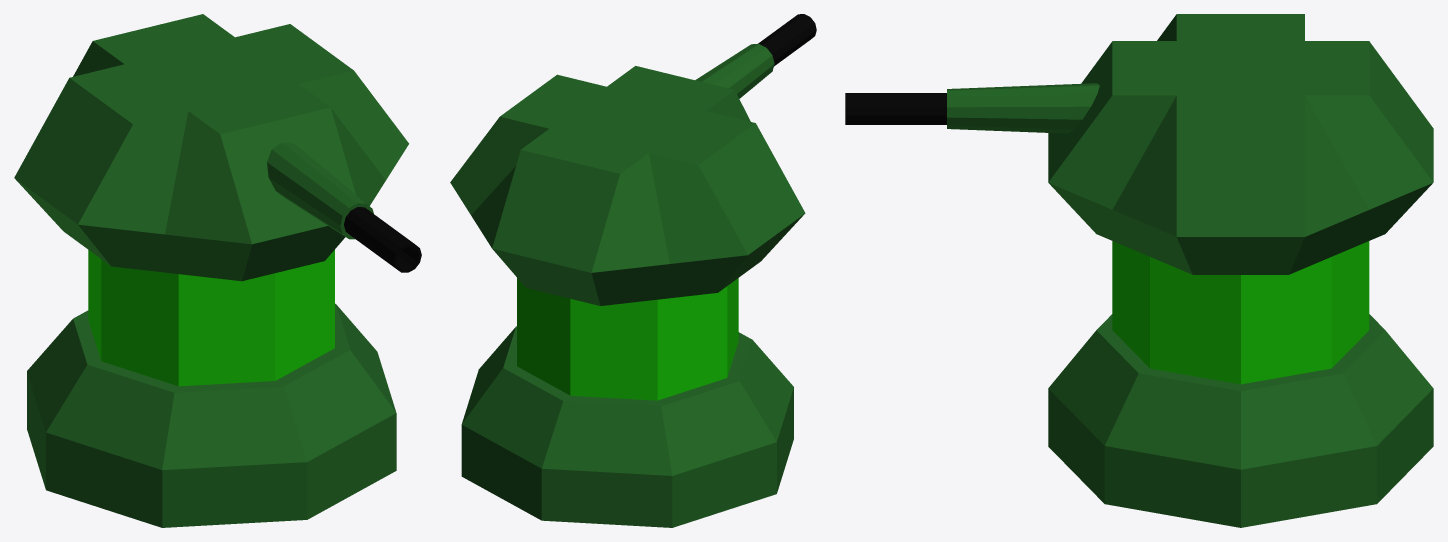
Rendered from Turret0_3.glb.
The picture shows the model from 3 angles, left to right: view 1: azimuth 30°, elevation 25°; view 2: azimuth 150°, elevation 25°; view 3: azimuth 270°, elevation 25°; orthographic projection. The views are drawn at different scales.
Parts seen in each view (by area): view 1: TurretUpgradePath0_3; view 2: TurretUpgradePath0_3; view 3: TurretUpgradePath0_3.
Part boxes in pixels (x1,y1,x2,y2): TurretUpgradePath0_3: (14,14,421,527); TurretUpgradePath0_3: (450,14,816,527); TurretUpgradePath0_3: (845,14,1433,527).
Bounding box in the file's own units: 3 × 3.25 × 4.58.
